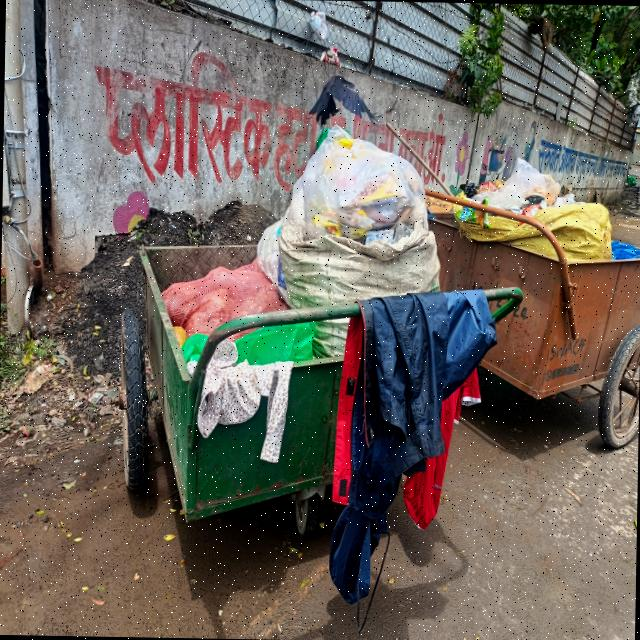garbage: (162, 126, 448, 353), (459, 146, 628, 273)
